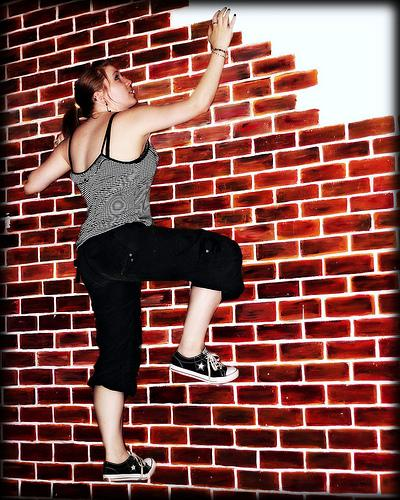person: (20, 7, 245, 479)
